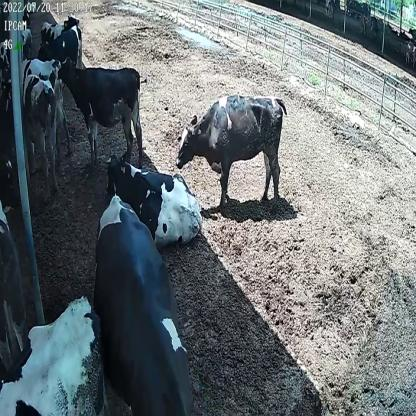cow: (93, 192, 197, 415), (175, 90, 288, 209), (103, 147, 204, 250), (57, 52, 145, 163), (40, 13, 80, 46)
